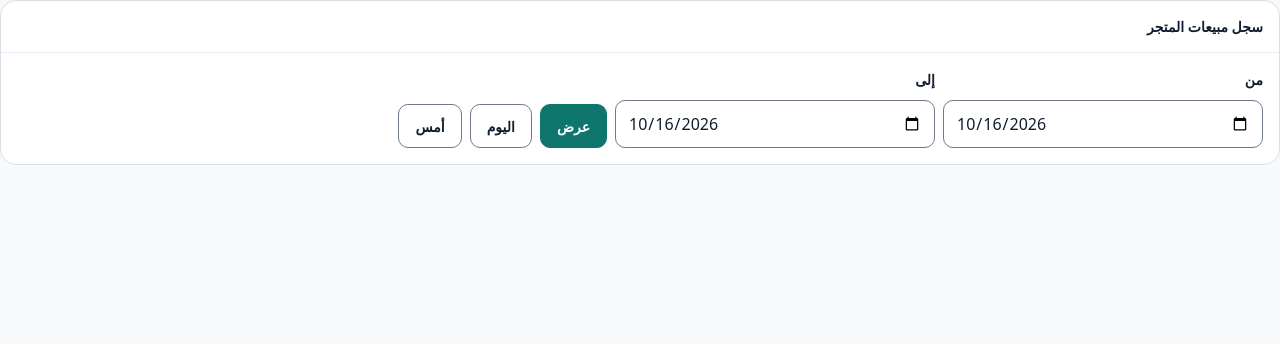
Test: RT-542 SalesHistory — states › labels a legacy row’s unrecorded and current names
This screenshot has width=1280, height=344.
Click the button "عرض": coordinates (574, 126) [540, 104, 607, 148]
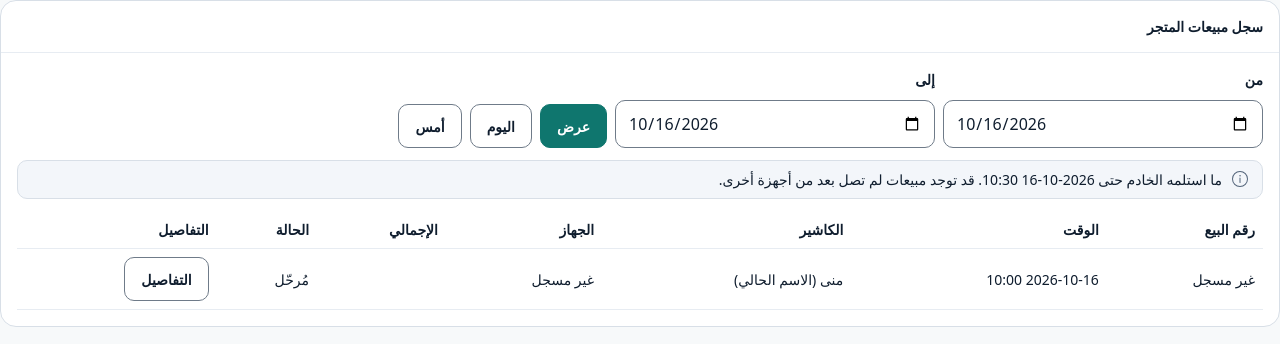
Expected: the table with test id "history-rows" shows "(الاسم الحالي)", [734, 270, 816, 288]
